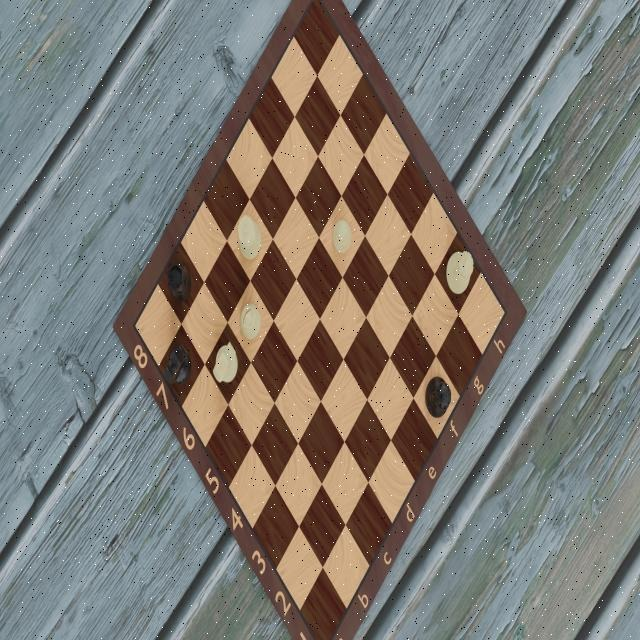black-king: (424, 372, 452, 420)
black-knight: (163, 339, 192, 389)
black-rook: (164, 258, 192, 306)
white-bishop: (238, 301, 264, 342)
white-king: (440, 248, 475, 300)
white-knight: (210, 342, 239, 386)
white-pawn: (329, 215, 354, 258)
white-queen: (233, 211, 263, 269)
